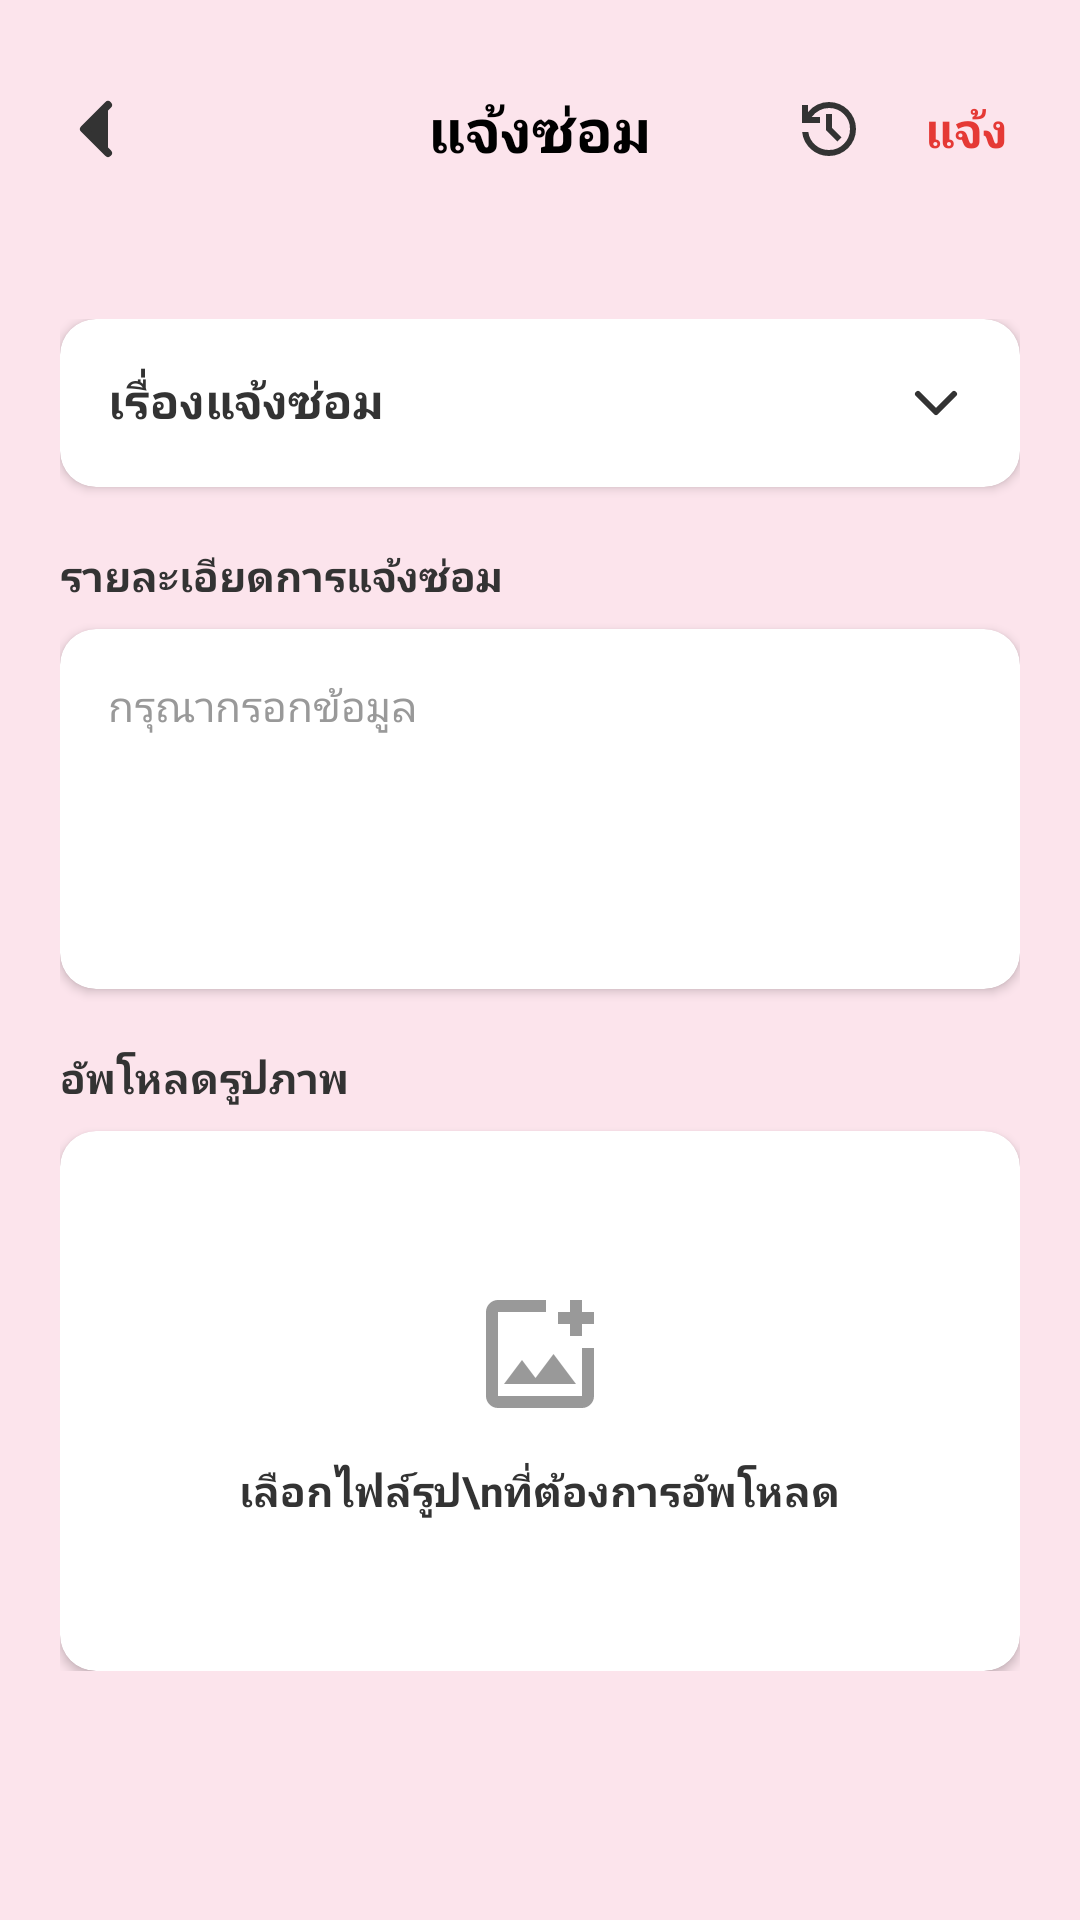

Icon click points for this 1080×1920 phone screenshot, format (x,y):
add photo gg: (540,1354)
back gg: (95,128)
chevron down gg: (936,403)
history gg: (829,129)
